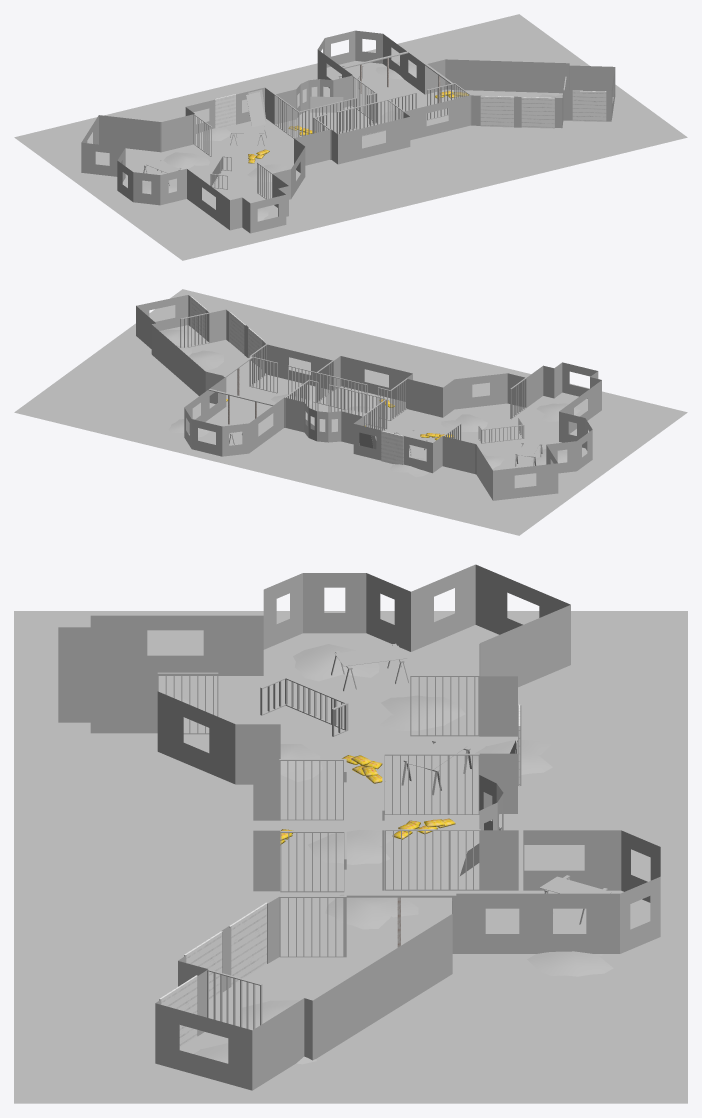
File: office_construction.dae
3 views of the same model, one above another, from view 1: azimuth 30°, elevation 25°; view 2: azimuth 150°, elevation 25°; view 3: azimuth 270°, elevation 25° (orthographic). The views are drawn at different scales.
Visible parts, largest first — view 1: Plane.008, Plane.001, Cube.002, Cube.001, Cube, Cube.004, Plane.027, Plane.014, Cube.026, Cube.028, Plane.022, Plane.021 (+2 smaller); view 2: Plane.008, Plane.001, Cube.004, Plane.028, Plane.021, Plane.005, Plane.003, Plane.032, Plane.013, Plane.016, Cube, Cube.002 (+5 smaller); view 3: Plane.008, Plane.001, Plane.027, Cube.001, Plane.037, Plane.031, Plane.029, Plane.035, Plane.022, Plane.005, Plane.034, Cube (+11 smaller).
Part boxes in pixels (<box>): Plane.008: <box>14,14,687,260</box>; Plane.001: <box>81,30,615,233</box>; Cube.002: <box>572,90,606,121</box>; Cube.001: <box>480,96,513,127</box>; Cube: <box>521,97,554,128</box>; Cube.004: <box>214,94,235,127</box>; Plane.027: <box>163,152,209,169</box>; Plane.014: <box>282,100,299,138</box>; Cube.026: <box>310,96,343,112</box>; Cube.028: <box>246,92,265,126</box>; Plane.022: <box>193,114,211,156</box>; Plane.021: <box>257,162,272,199</box>; Plane.008: <box>14,289,687,535</box>; Plane.001: <box>136,295,601,500</box>; Cube.004: <box>381,431,403,464</box>; Plane.028: <box>441,414,487,431</box>; Plane.021: <box>510,377,526,419</box>; Plane.005: <box>180,312,209,347</box>; Plane.003: <box>249,356,277,393</box>; Plane.032: <box>188,350,223,370</box>; Plane.013: <box>391,378,407,420</box>; Plane.016: <box>328,384,358,414</box>; Cube: <box>230,312,245,354</box>; Cube.002: <box>191,296,206,338</box>; Plane.008: <box>14,611,687,1103</box>; Plane.001: <box>58,564,660,1090</box>; Plane.027: <box>379,695,465,730</box>; Cube.001: <box>229,902,267,986</box>; Plane.037: <box>308,829,394,864</box>; Plane.031: <box>325,894,418,929</box>; Plane.029: <box>293,644,379,681</box>; Plane.035: <box>527,951,613,976</box>; Plane.022: <box>410,675,479,736</box>; Plane.005: <box>207,969,262,1029</box>; Plane.034: <box>467,740,552,774</box>; Cube: <box>184,931,222,1000</box>.
Size of the model in its own units: 44.01 by 25.45 by 2.63.
